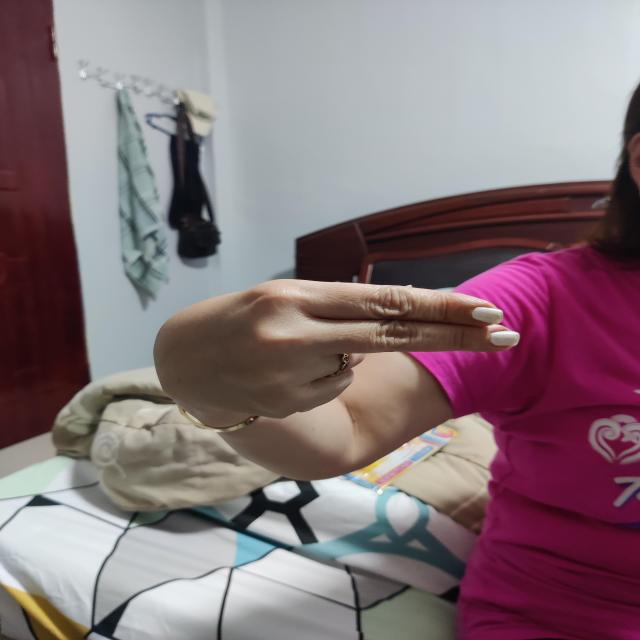H: (152, 278, 522, 420)
